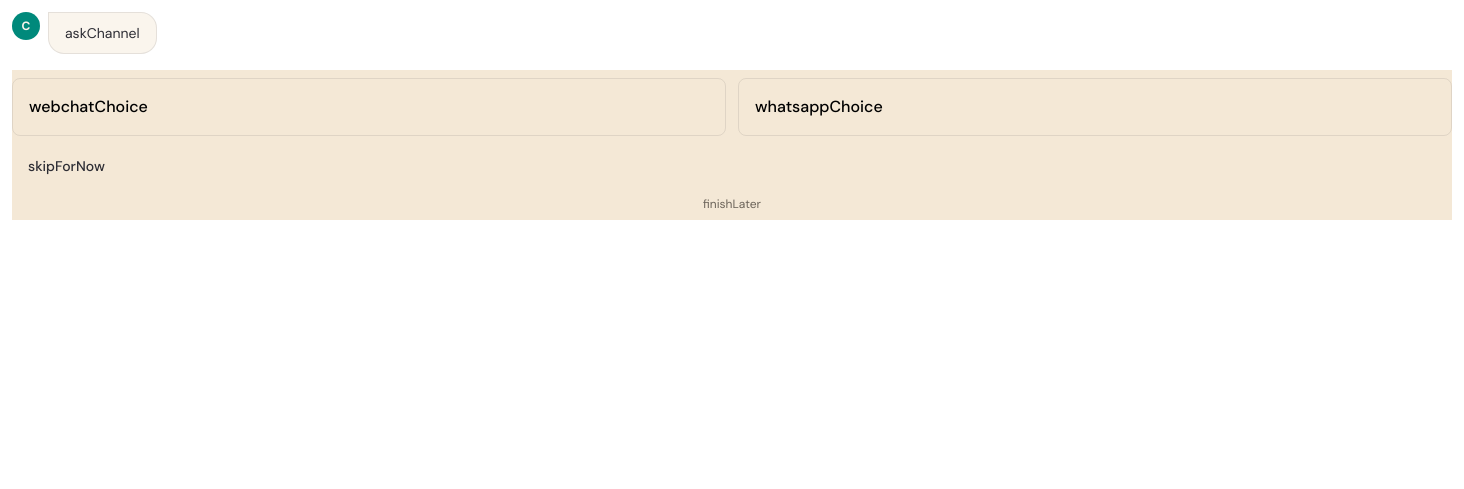
ChatOnboarding › renders webhook URL and verify token read-only fields from channel.webhookConfig
Click the button "whatsappChoice": click(819, 106) [738,78,1452,136]
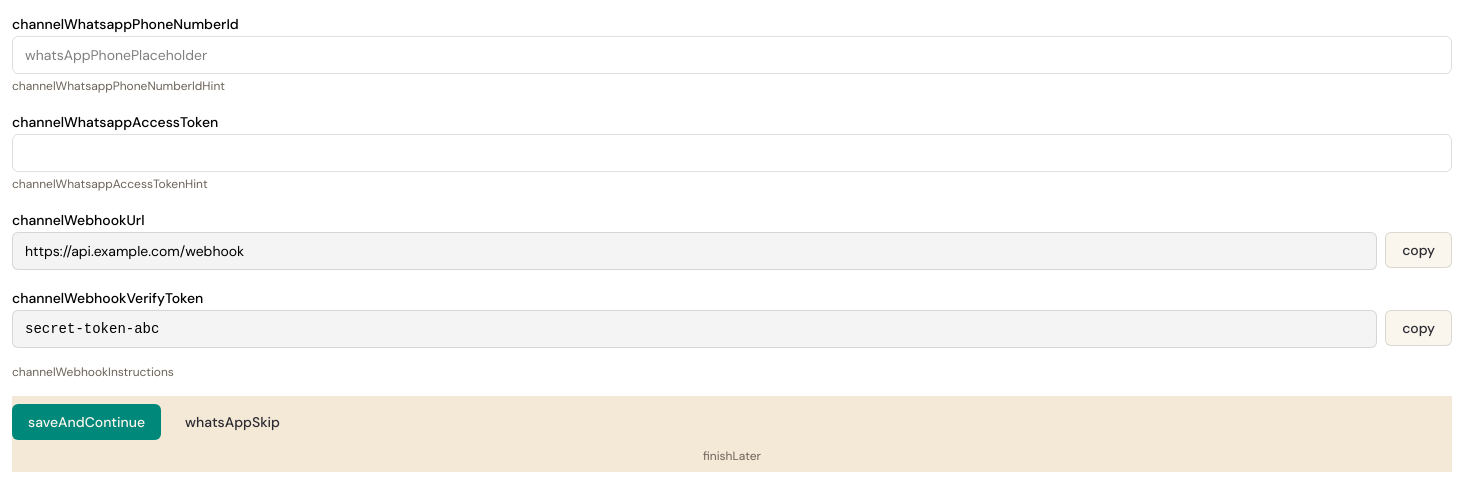
Expected: the field showing "https://api.example.com/webhook" below "channelWebhookUrl" is shown, [12,232,1377,270]
Expected: the field showing "secret-token-abc" below "channelWebhookVerifyToken" is shown, [12,310,1377,348]
